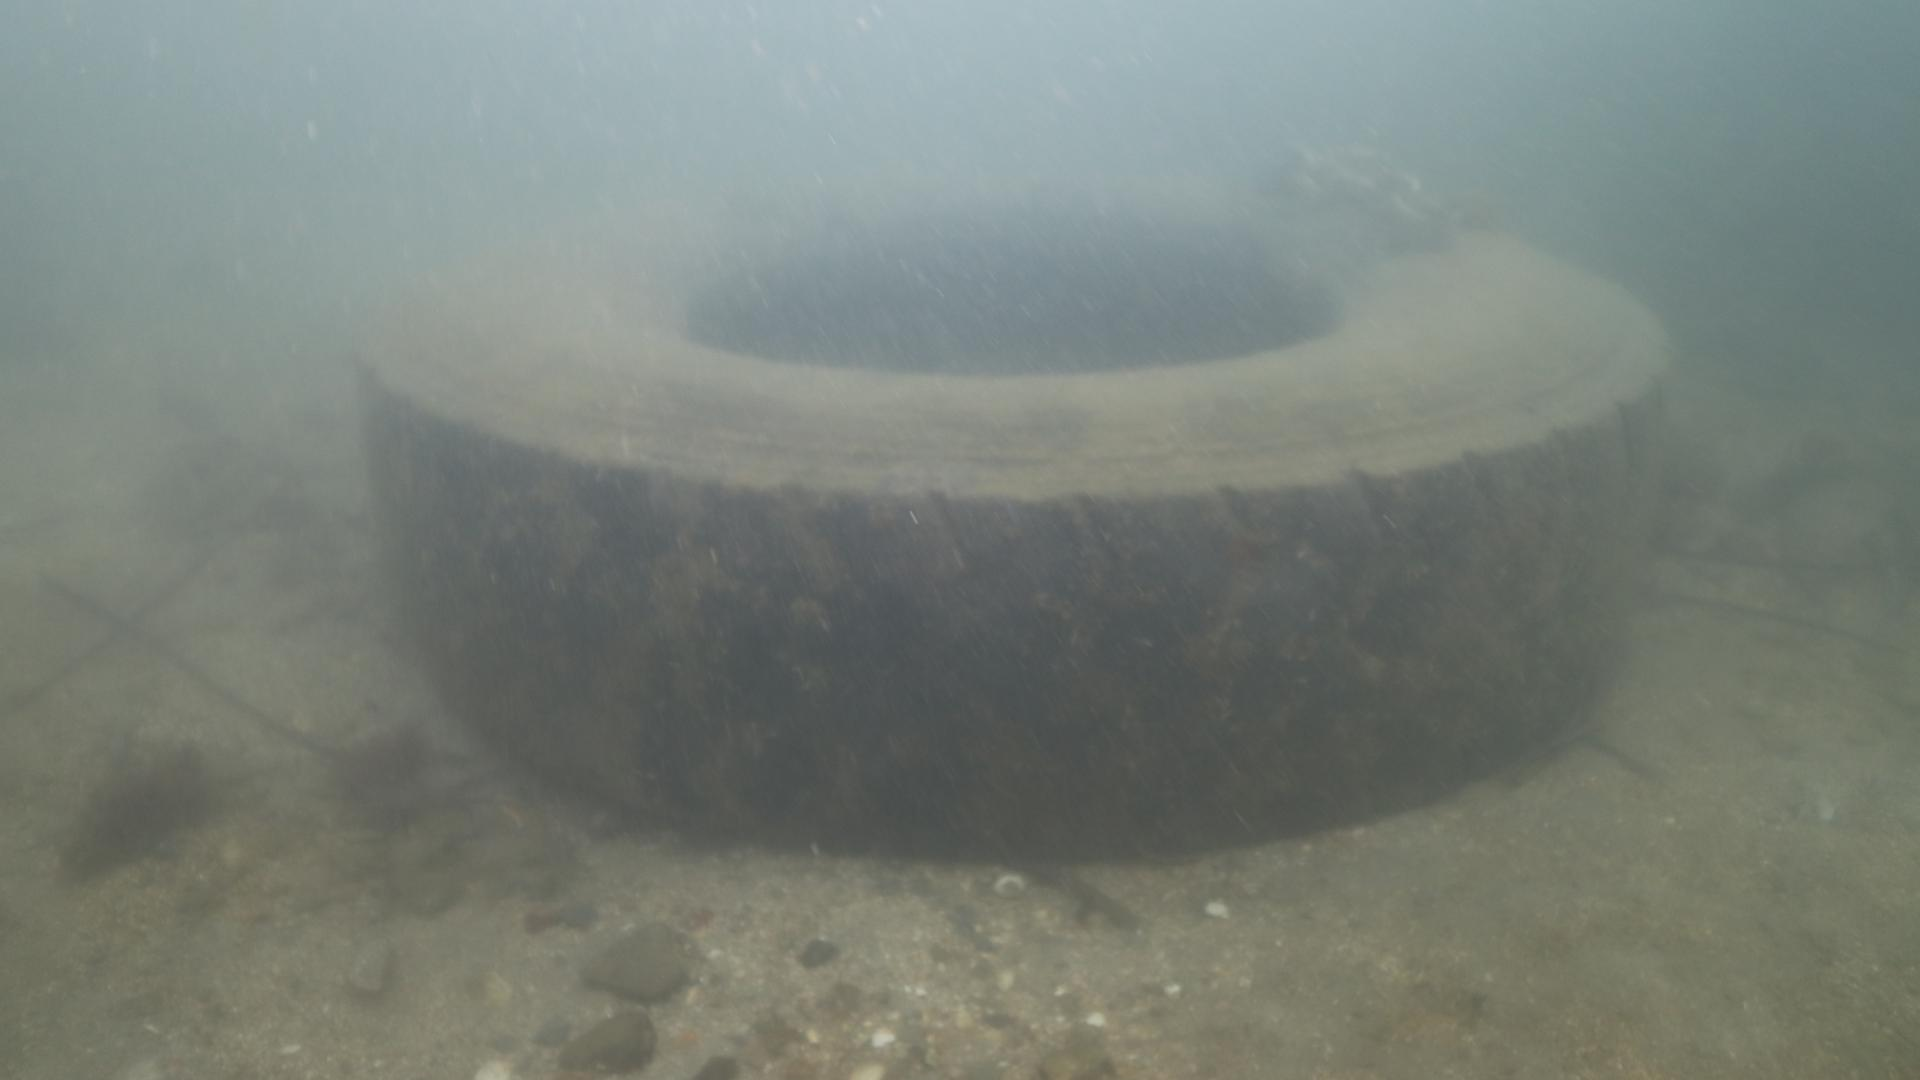tire: (343, 171, 1668, 860)
